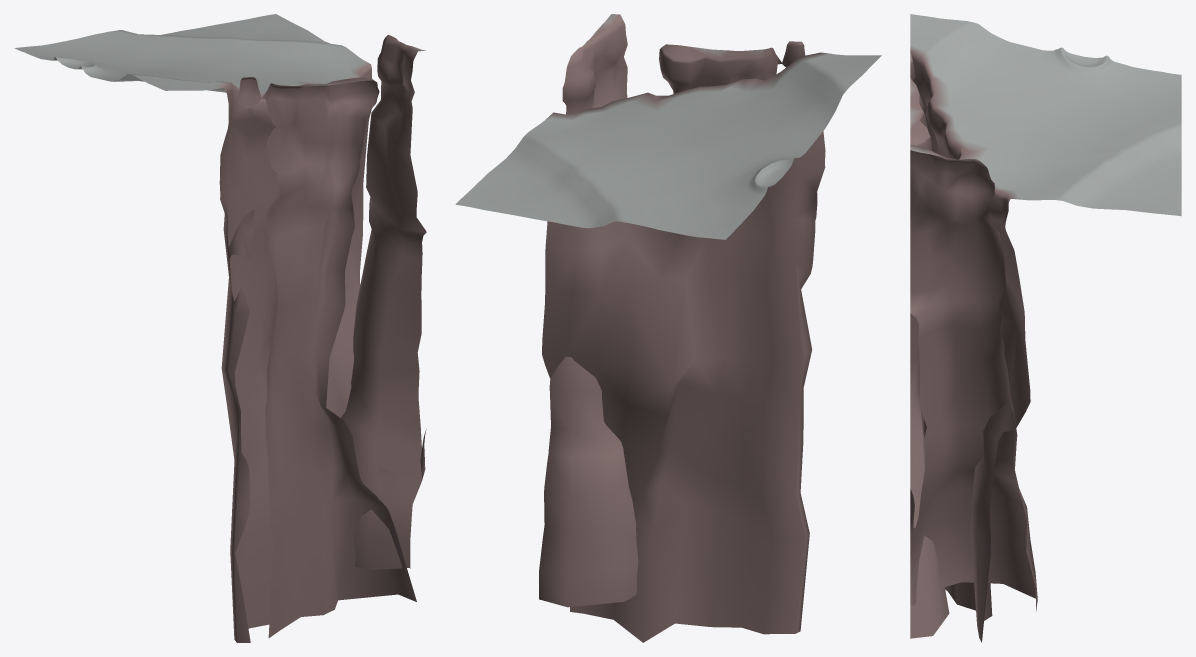
3 renders of one model, left to right at view 1: azimuth 30°, elevation 25°; view 2: azimuth 150°, elevation 25°; view 3: azimuth 270°, elevation 25°, orthographic. The views are drawn at different scales.
Parts seen in each view (by area): view 1: G:\FFXIV-MapTools\exports\u5f1\bg\ex4\04_uvs_u5\fld\u5f1\bgp (×10); view 2: G:\FFXIV-MapTools\exports\u5f1\bg\ex4\04_uvs_u5\fld\u5f1\bgp (×12); view 3: G:\FFXIV-MapTools\exports\u5f1\bg\ex4\04_uvs_u5\fld\u5f1\bgp (×13).
Boxes of the visible parts, x1,y1,x2,y2 form: G:\FFXIV-MapTools\exports\u5f1\bg\ex4\04_uvs_u5\fld\u5f1\bgp (×10): [14, 14, 426, 642]; G:\FFXIV-MapTools\exports\u5f1\bg\ex4\04_uvs_u5\fld\u5f1\bgp (×12): [455, 14, 881, 642]; G:\FFXIV-MapTools\exports\u5f1\bg\ex4\04_uvs_u5\fld\u5f1\bgp (×13): [910, 14, 1181, 642].
Bounding box in the file's own units: 128 × 271 × 128.
